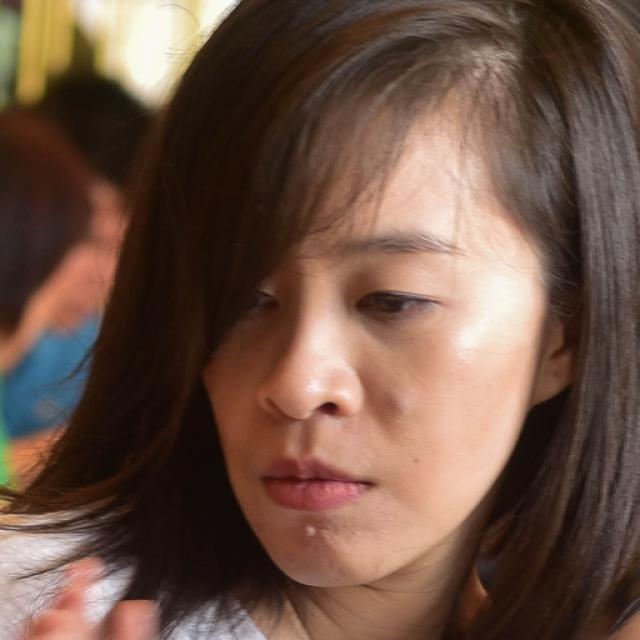sad: (201, 82, 540, 590)
